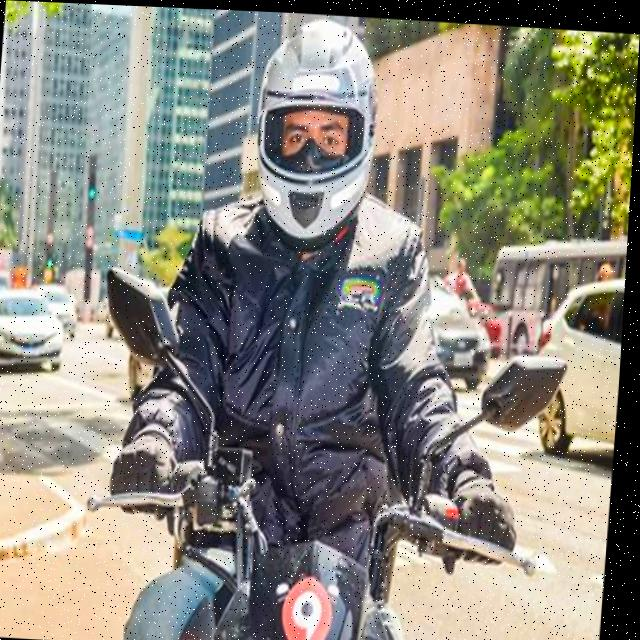helmet: (246, 9, 385, 255)
